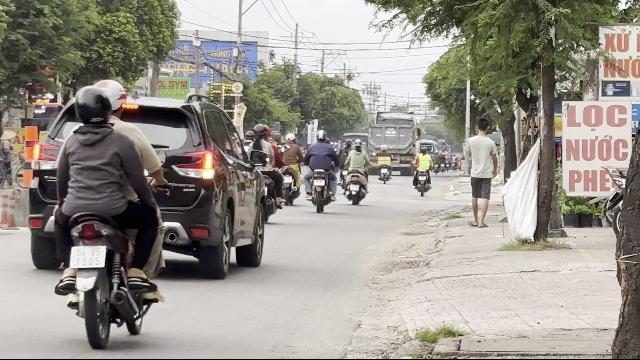helmet: (72, 86, 114, 127), (92, 79, 128, 113)
licenseplate: (70, 245, 106, 267)
motorcyclist: (40, 77, 170, 347)
